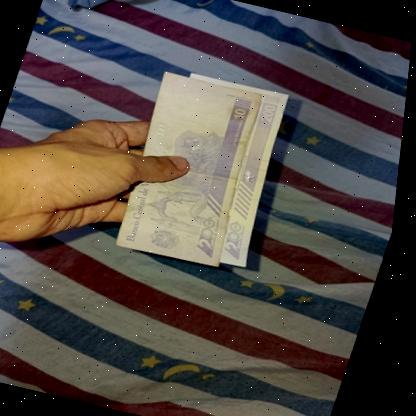ten-back-vef: (110, 70, 279, 270)
two_hundred-back-vef: (210, 88, 305, 267)
